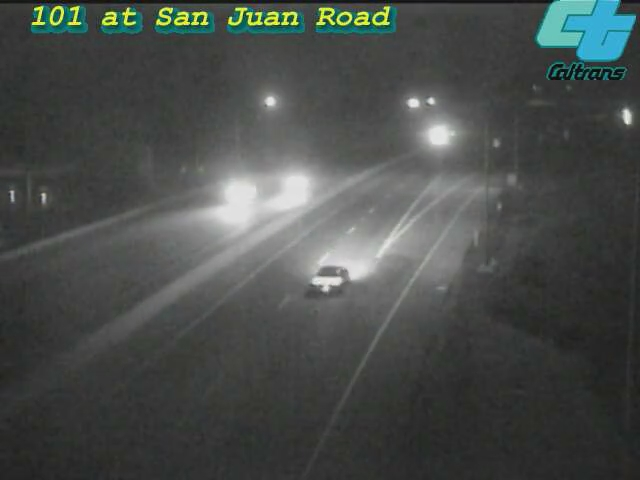vehicle: (199, 156, 279, 236), (255, 147, 335, 227), (287, 240, 367, 320), (413, 110, 463, 160)
